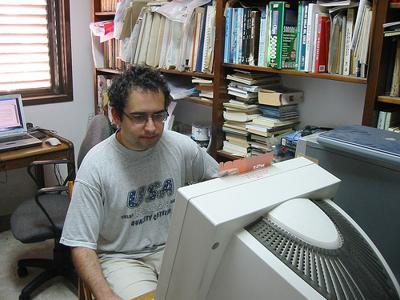person: (59, 66, 230, 300)
